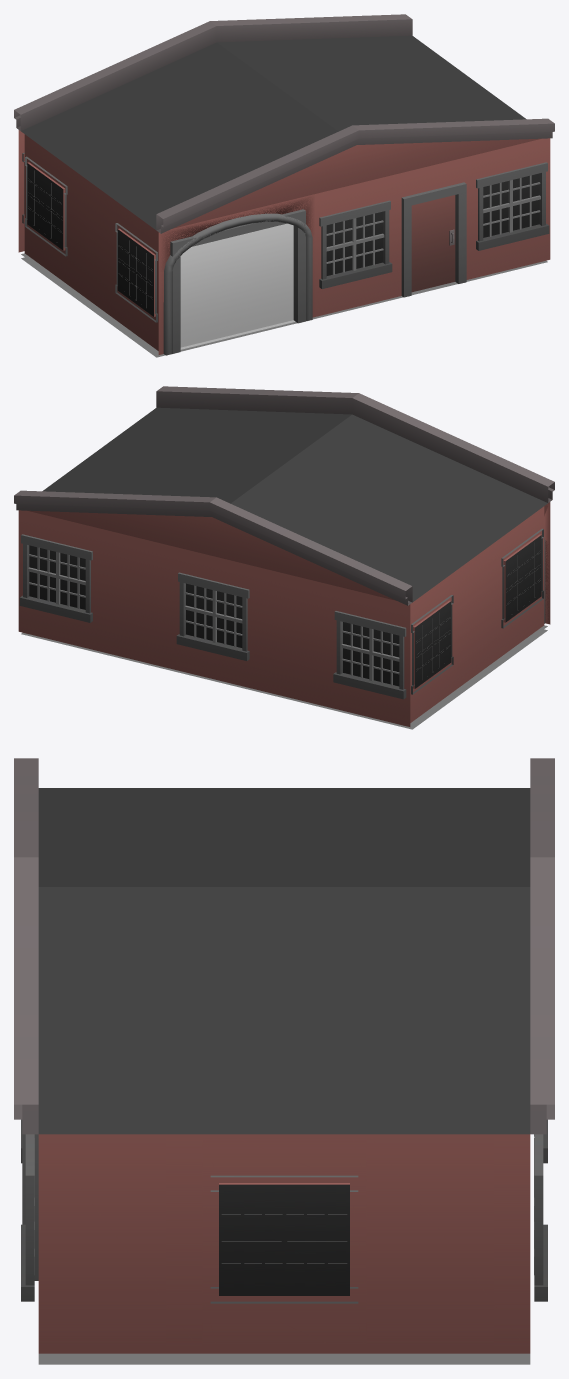
Rendered from maintenance-depot.glb.
The picture shows the model from 3 angles, top to bottom: view 1: azimuth 30°, elevation 25°; view 2: azimuth 150°, elevation 25°; view 3: azimuth 270°, elevation 25°; orthographic projection. The views are drawn at different scales.
Parts seen in each view (by area): view 1: TreyIndustrialMaintenanceDepotVisual; view 2: TreyIndustrialMaintenanceDepotVisual; view 3: TreyIndustrialMaintenanceDepotVisual.
Boxes of the visible parts, x1,y1,x2,y2 form: TreyIndustrialMaintenanceDepotVisual: (14,14,554,357); TreyIndustrialMaintenanceDepotVisual: (14,386,554,729); TreyIndustrialMaintenanceDepotVisual: (14,758,554,1364).
Bounding box in the file's own units: 10 × 4.5 × 6.6.
Materials: 1 (1 with a texture image).
